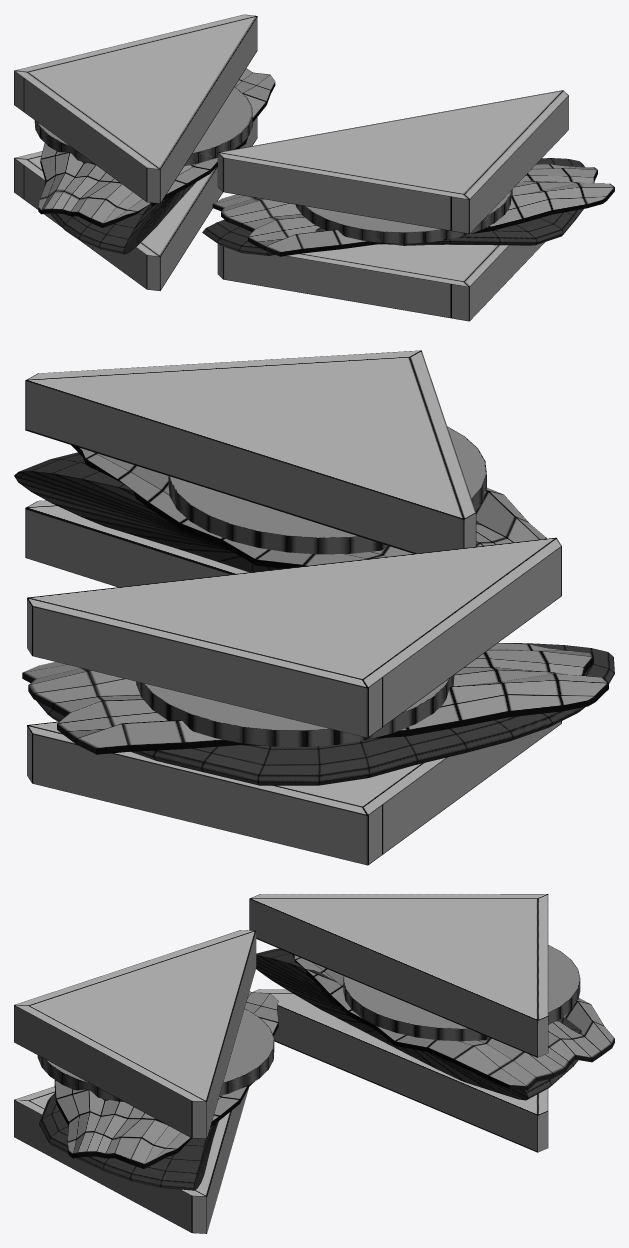
Rendered from FrozenSandwich.fbx.
The picture shows the model from 3 angles, top to bottom: view 1: azimuth 30°, elevation 25°; view 2: azimuth 150°, elevation 25°; view 3: azimuth 270°, elevation 25°; orthographic projection. The views are drawn at different scales.
Visible parts, largest first — view 1: Sphere; view 2: Sphere; view 3: Sphere.
Boxes of the visible parts, left/top/right/bottom form: Sphere: left=14, top=14, right=614, bottom=321; Sphere: left=14, top=350, right=614, bottom=865; Sphere: left=14, top=894, right=614, bottom=1233.
Size of the model in its own units: 412 by 101 by 417.
